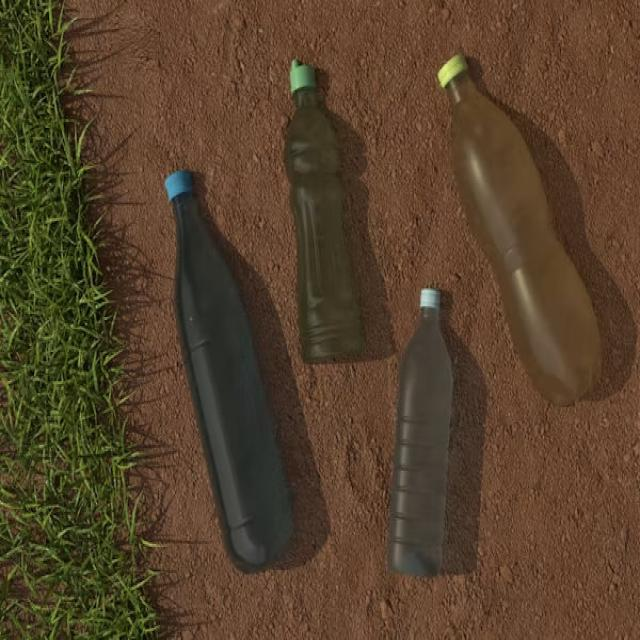Bottle: (439, 55, 600, 405), (166, 171, 293, 571), (285, 61, 363, 362), (388, 290, 453, 575)
